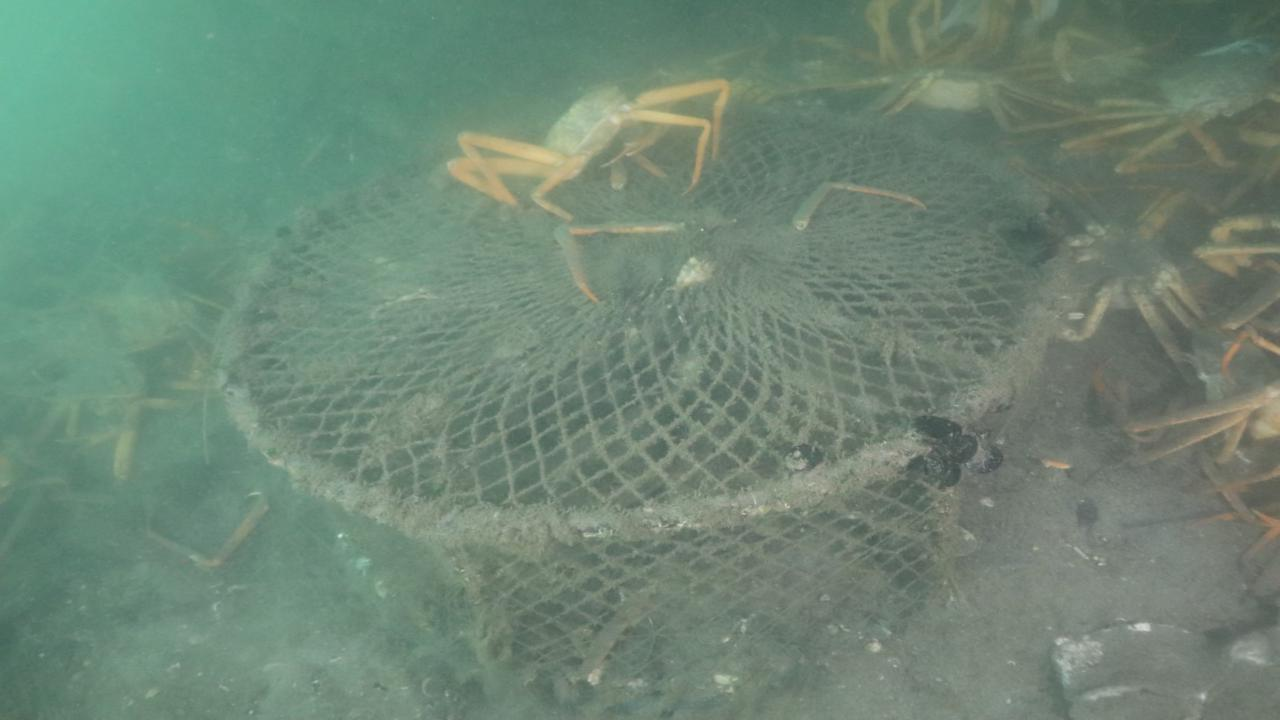circular fish trap: (211, 89, 1072, 694)
